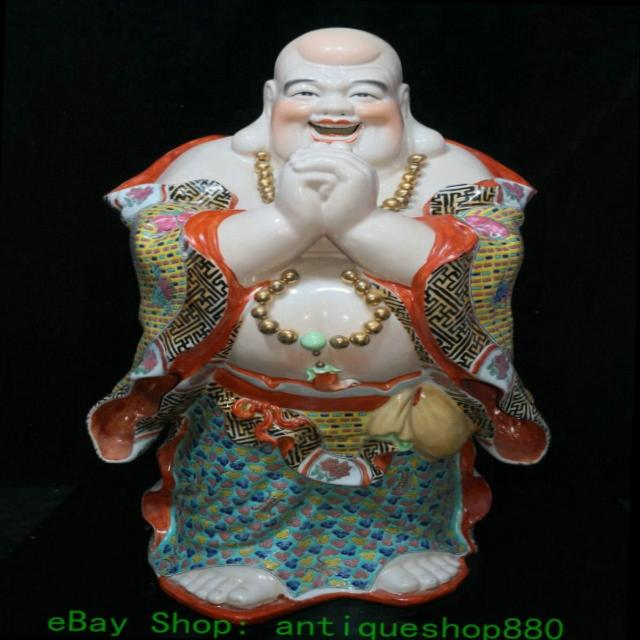Smiling Buddha: (106, 18, 530, 490)
